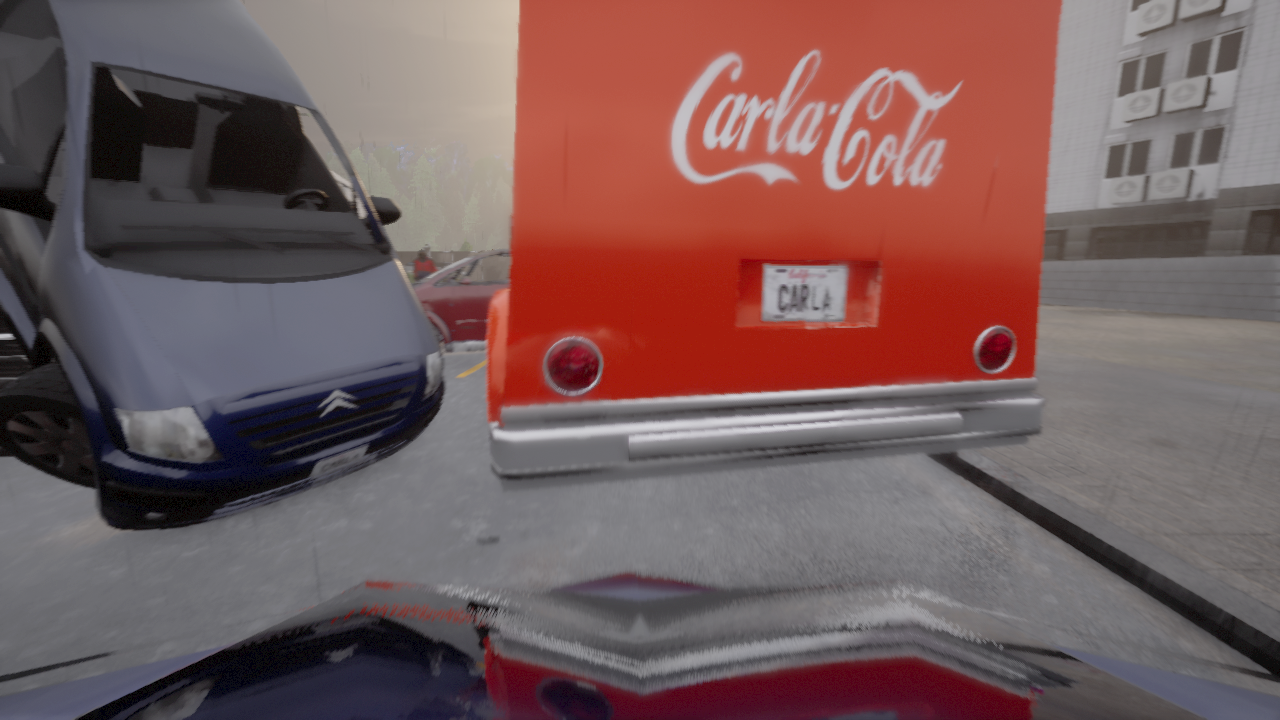cyclist: (487, 0, 1061, 492), (0, 569, 1279, 719), (412, 249, 510, 351), (406, 263, 454, 271)
pedestrian: (414, 251, 437, 282)
